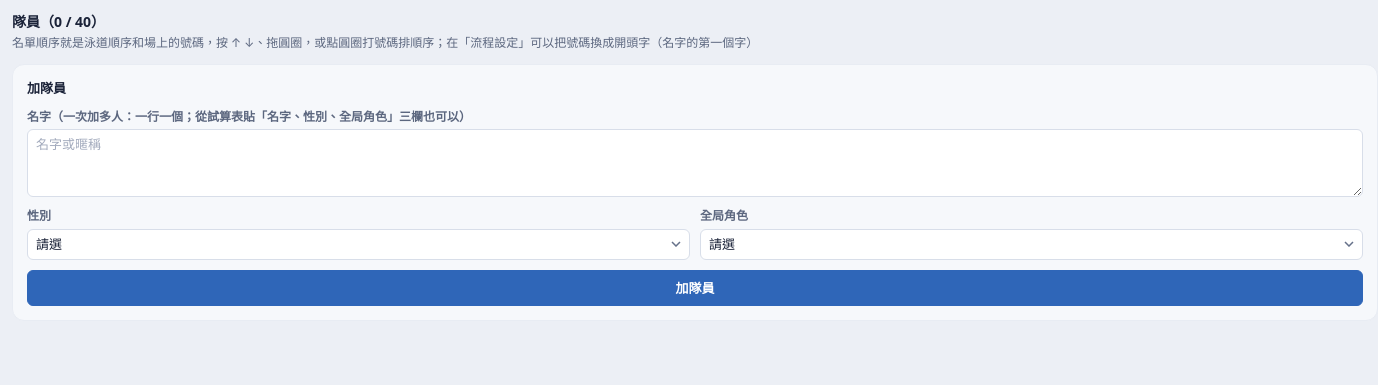
隊員名單 › 選性別不會帶入全局角色；沒選全局角色就被擋下
In the text box labelled "名字（一次加多人：一行一個；從試算表貼「名字、性別、全局角色」三欄也可以）": x=695, y=163 [27, 129, 1363, 197], type "小A"
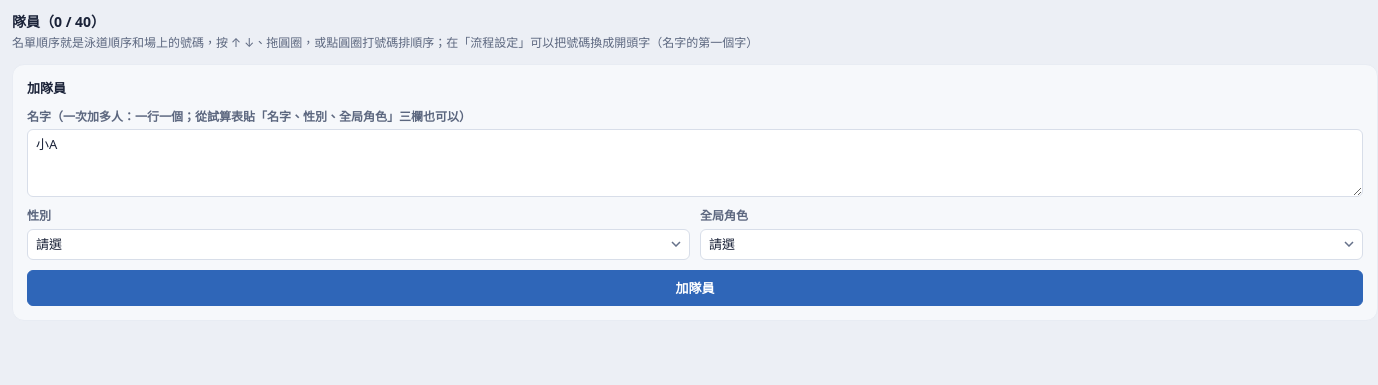
Select "男" in the dropdown labelled "性別": x=358, y=244 [27, 229, 690, 260]
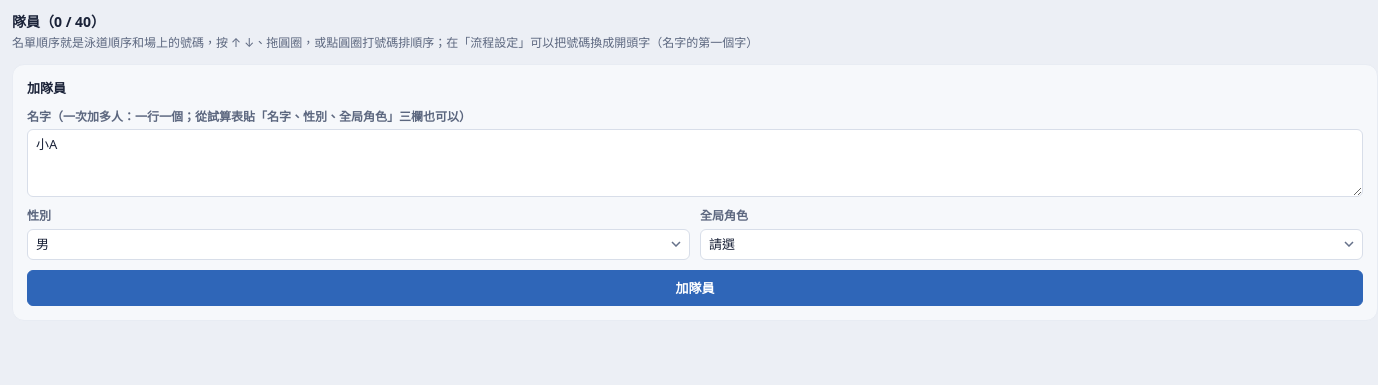
expect the dropdown labelled "全局角色" shows "請選": met, box [700, 229, 1363, 260]
Click the button "加隊員": x=695, y=288 [27, 270, 1363, 306]
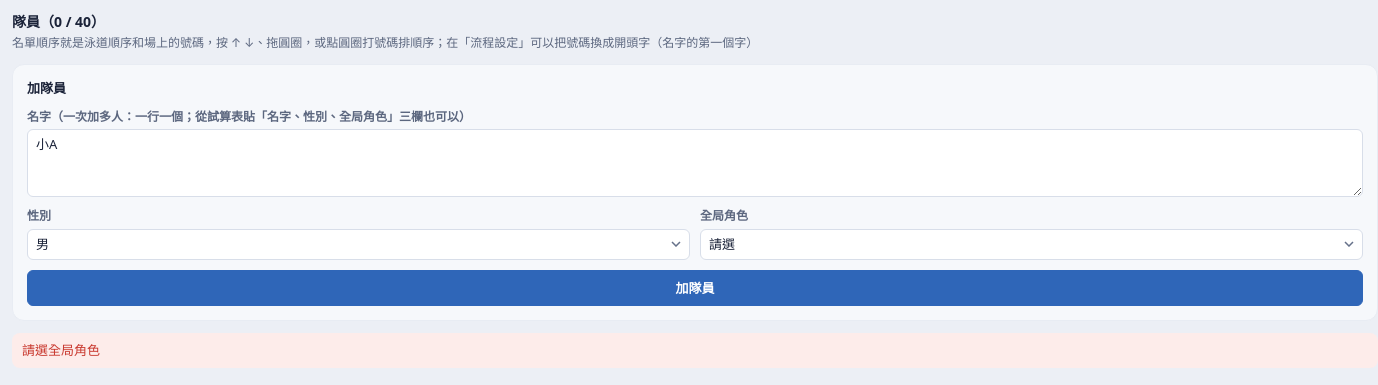
expect the message reads "請選全局角色": met, box [22, 341, 100, 359]
